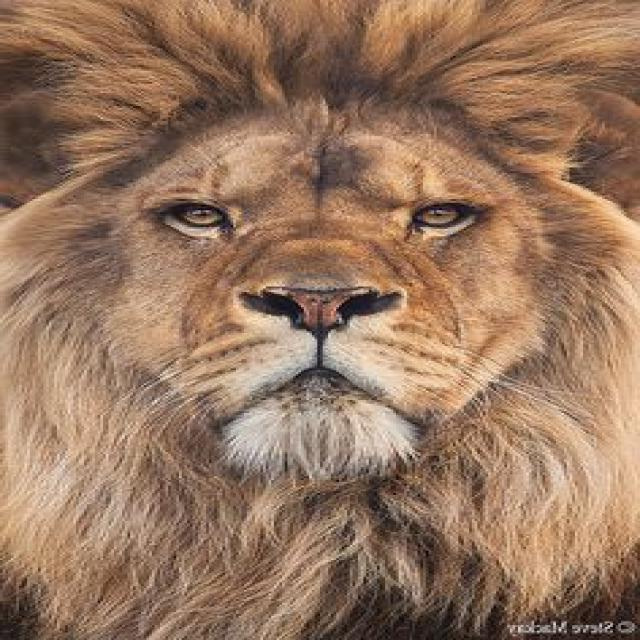lions: (0, 2, 640, 633)
